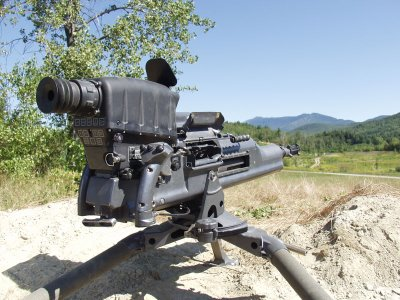rifle: (28, 48, 343, 280)
